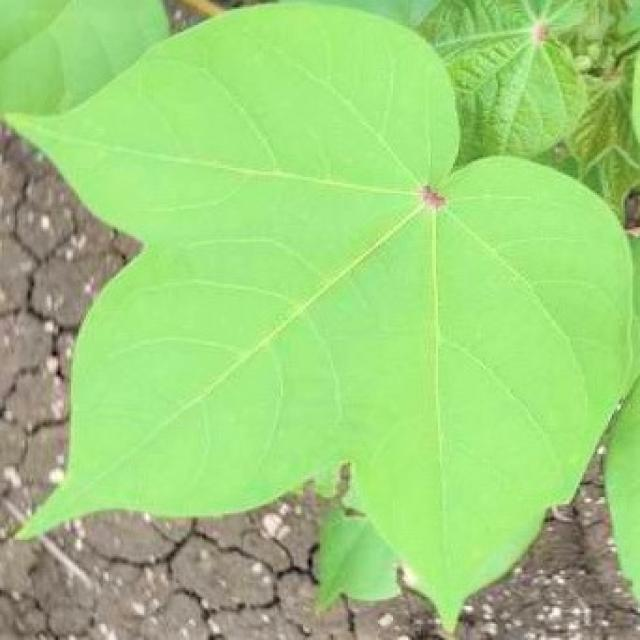Healthy Leaf: (97, 116, 640, 471)
